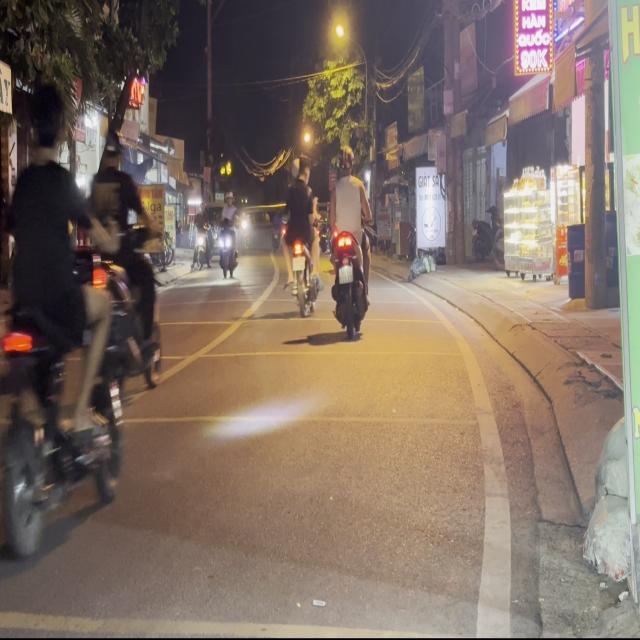helmet: (338, 146, 355, 176)
licenseplate: (0, 77, 133, 577), (327, 145, 373, 337)
motorcyclist: (25, 80, 65, 162)
nohelmet: (339, 265, 353, 284)
